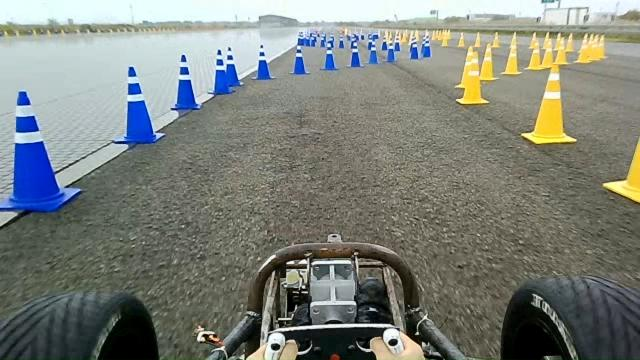blue cone: (1, 90, 82, 212), (113, 66, 165, 144), (170, 54, 202, 110), (207, 49, 235, 95), (251, 44, 276, 80), (225, 46, 244, 86), (289, 42, 310, 75), (320, 41, 338, 70), (346, 40, 364, 68), (386, 37, 397, 62), (368, 37, 378, 64), (421, 35, 432, 58), (410, 36, 419, 59)
yellow cone: (520, 64, 578, 145), (602, 136, 639, 203), (456, 56, 489, 105), (455, 43, 483, 90), (501, 39, 525, 75), (479, 44, 498, 81)
